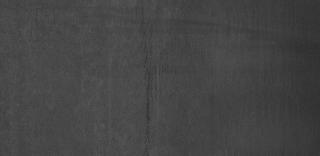water spot: (137, 23, 157, 152)
